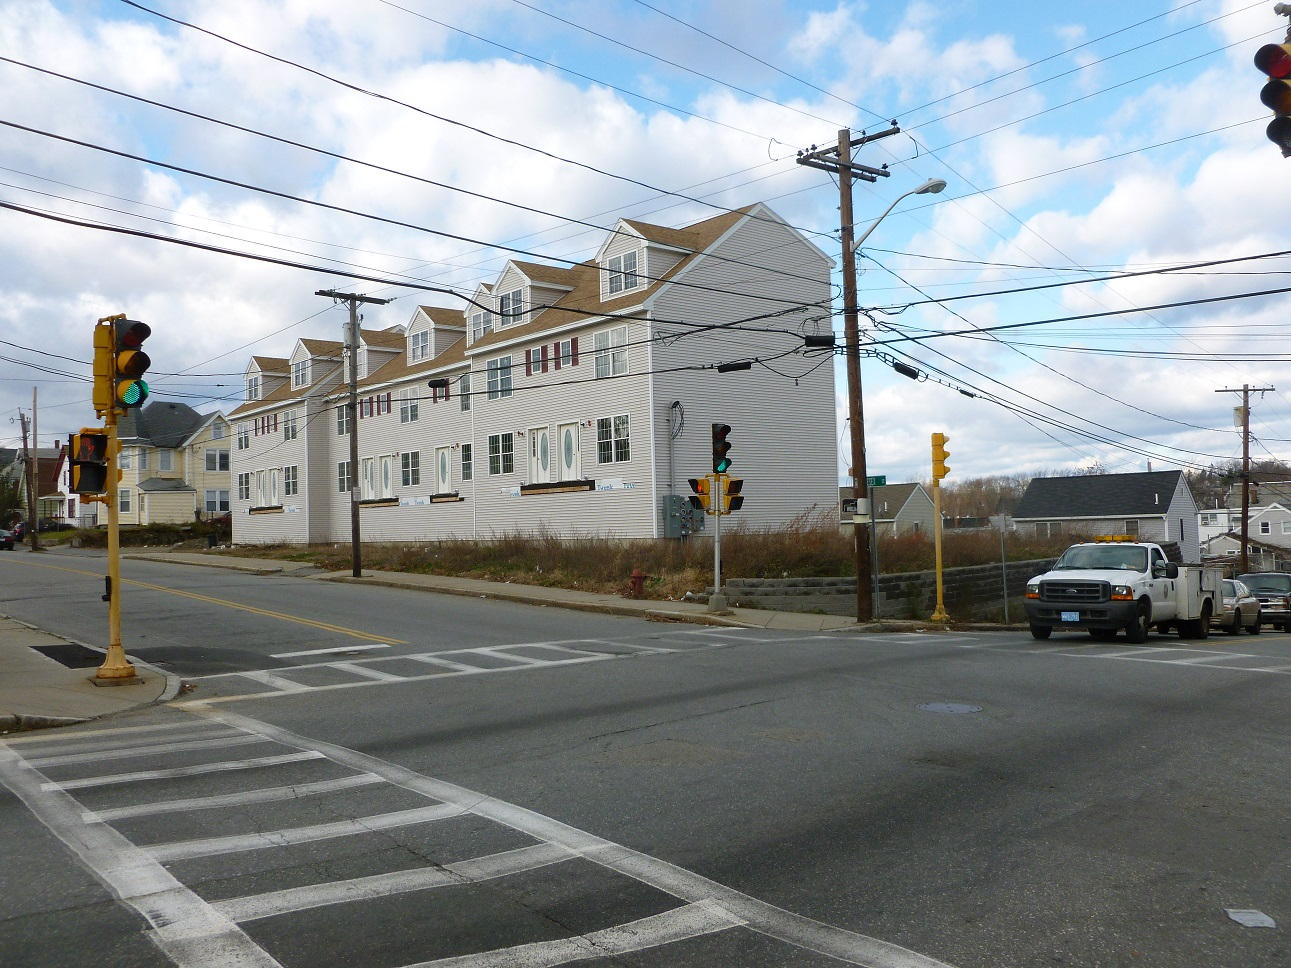traffic_light: (114, 318, 151, 410), (710, 422, 734, 474)
